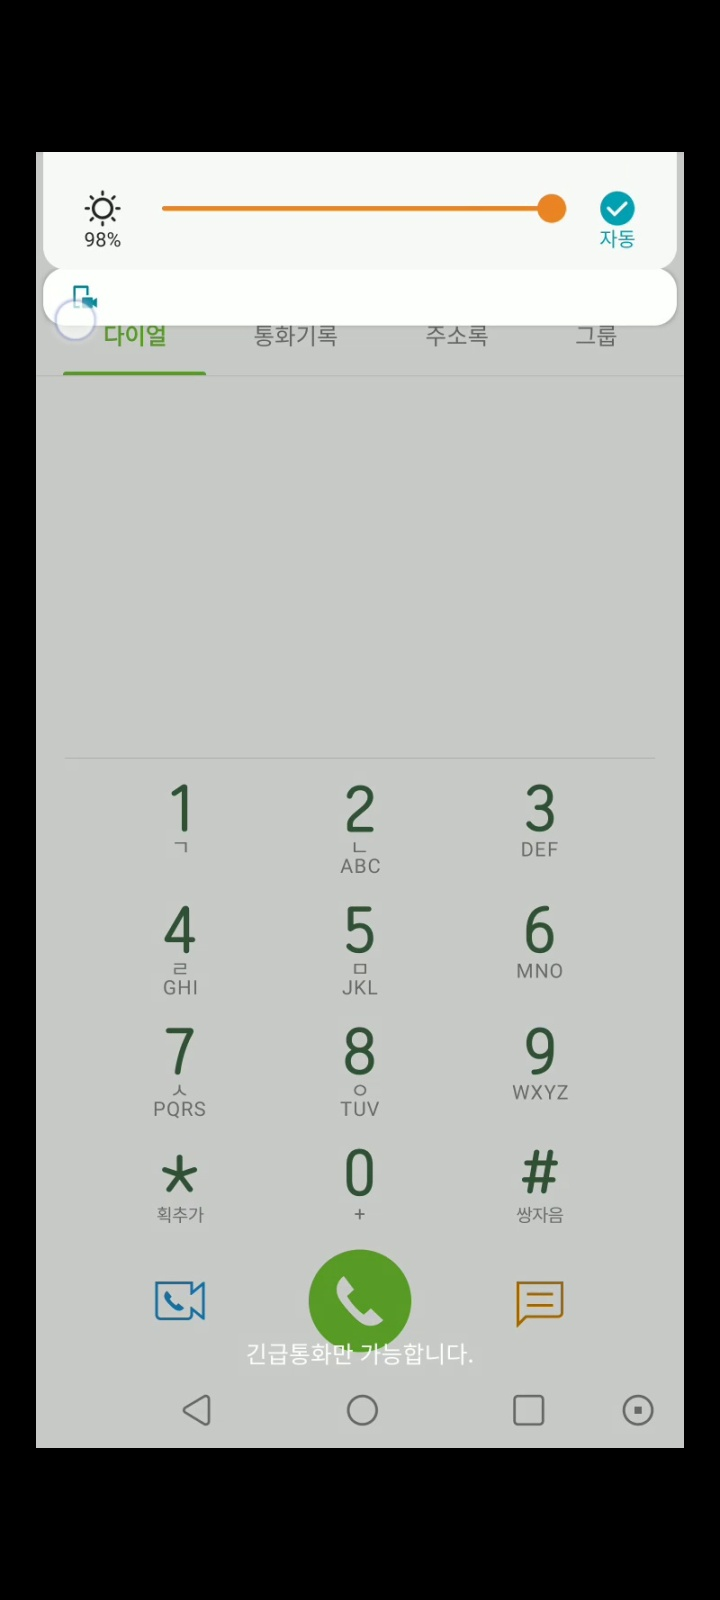Cursor: (54, 297, 99, 342)
